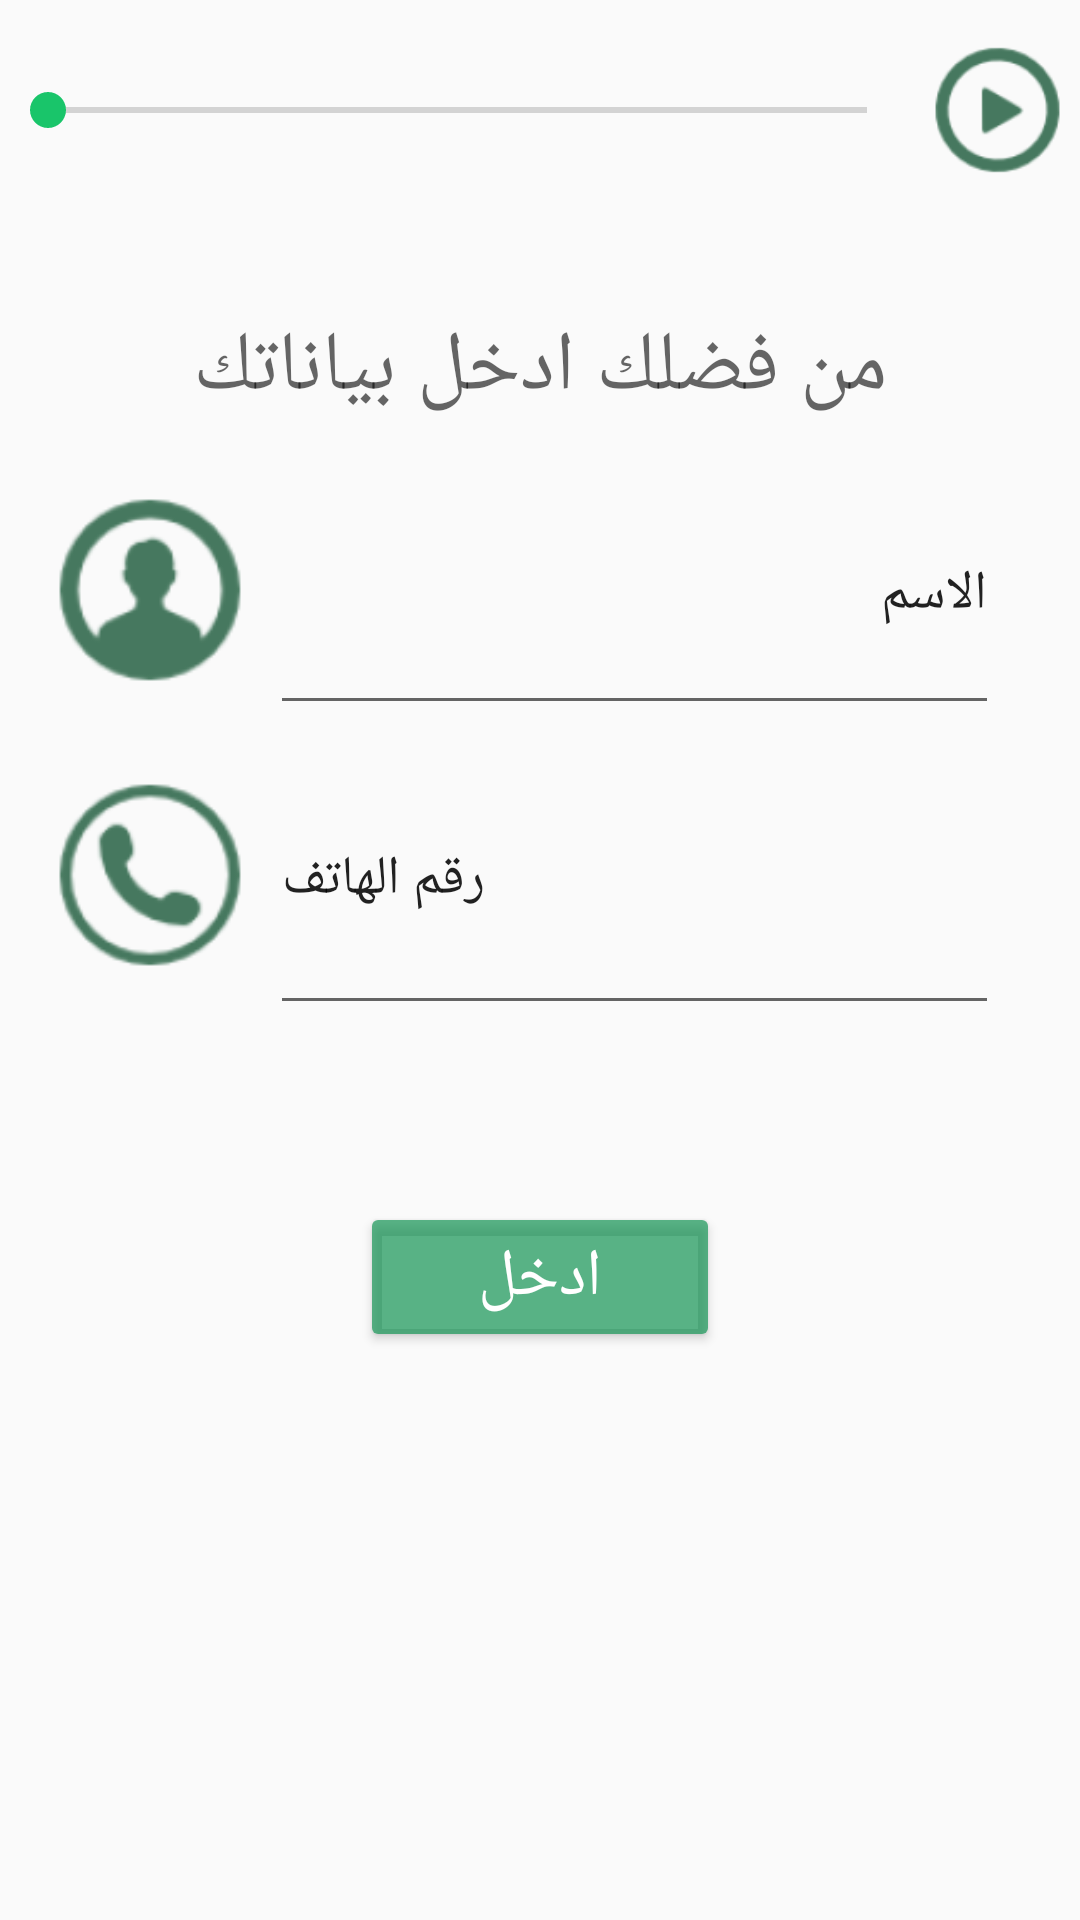

Where icons sit on this 1080x1920 app screen, as (x1, y1, x2, y2):
phone: (59, 784, 241, 966)
play: (935, 48, 1060, 172)
